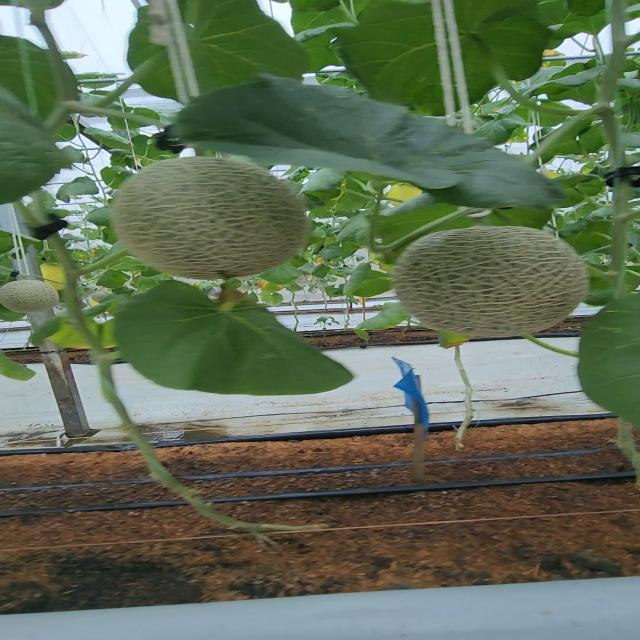Front-melon: (108, 156, 308, 277), (397, 225, 585, 338)
Rear-melon: (0, 281, 63, 312)
